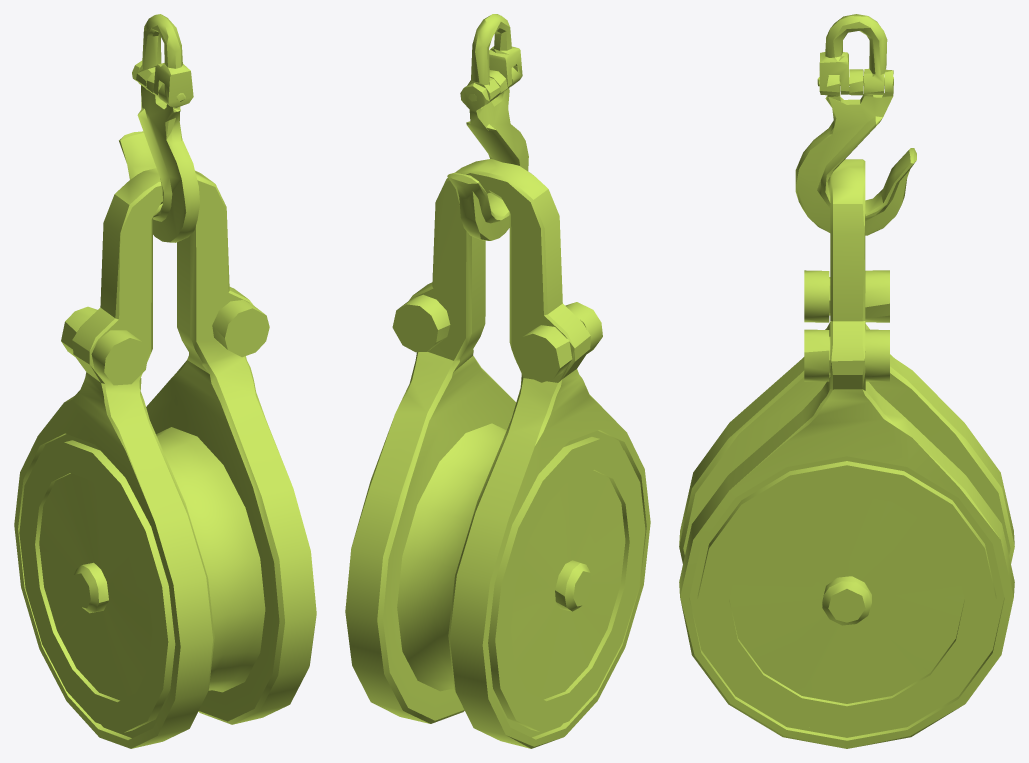
Rendered from Snatchblock.fbx.
3 views of the same model, side by side, from view 1: azimuth 30°, elevation 25°; view 2: azimuth 150°, elevation 25°; view 3: azimuth 270°, elevation 25° (orthographic).
Parts seen in each view (by area): view 1: Snatchblock_low.005; view 2: Snatchblock_low.005; view 3: Snatchblock_low.005.
Part boxes in pixels (x1,y1,x2,y2): Snatchblock_low.005: (14,14,316,748); Snatchblock_low.005: (345,14,650,748); Snatchblock_low.005: (679,14,1014,748).
Size of the model in its own units: 17.66 by 69.82 by 30.24.
